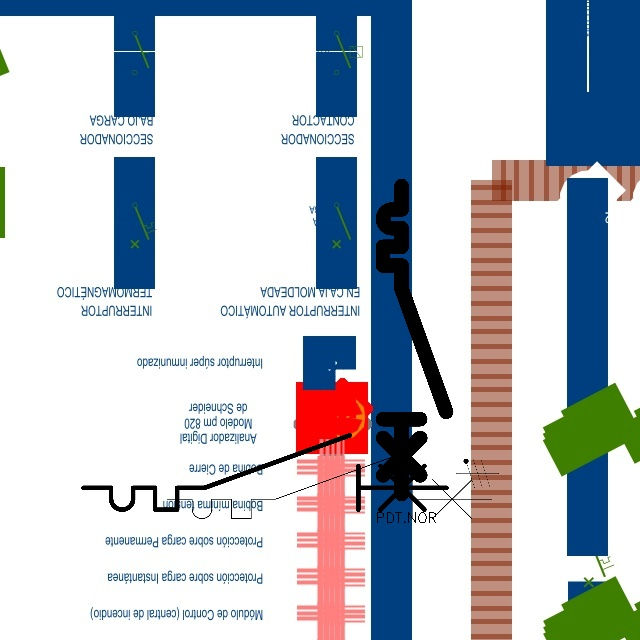interruptor_termomagnetico: (74, 426, 456, 519), (159, 444, 500, 527), (375, 178, 454, 502)
